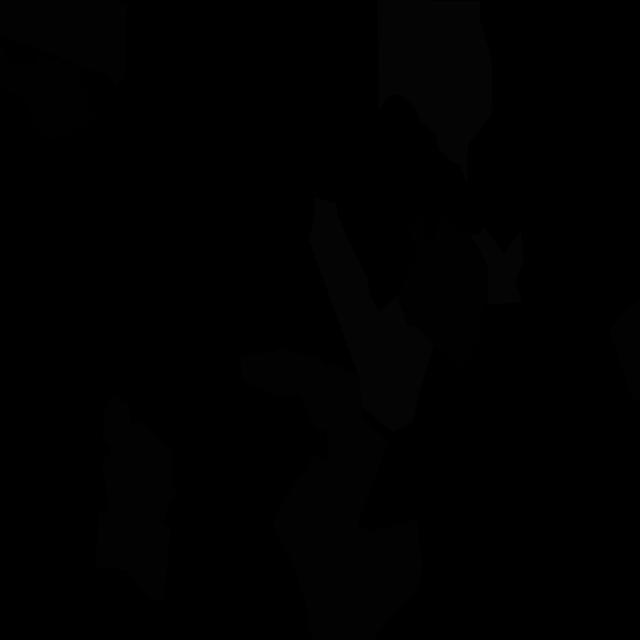cardboard: (272, 416, 423, 640), (95, 395, 178, 600), (241, 348, 362, 432), (609, 298, 640, 404)
rigid_plastic: (396, 214, 487, 371), (0, 38, 96, 141)
soft_plastic: (309, 196, 434, 433), (377, 0, 492, 184), (470, 227, 524, 304)
